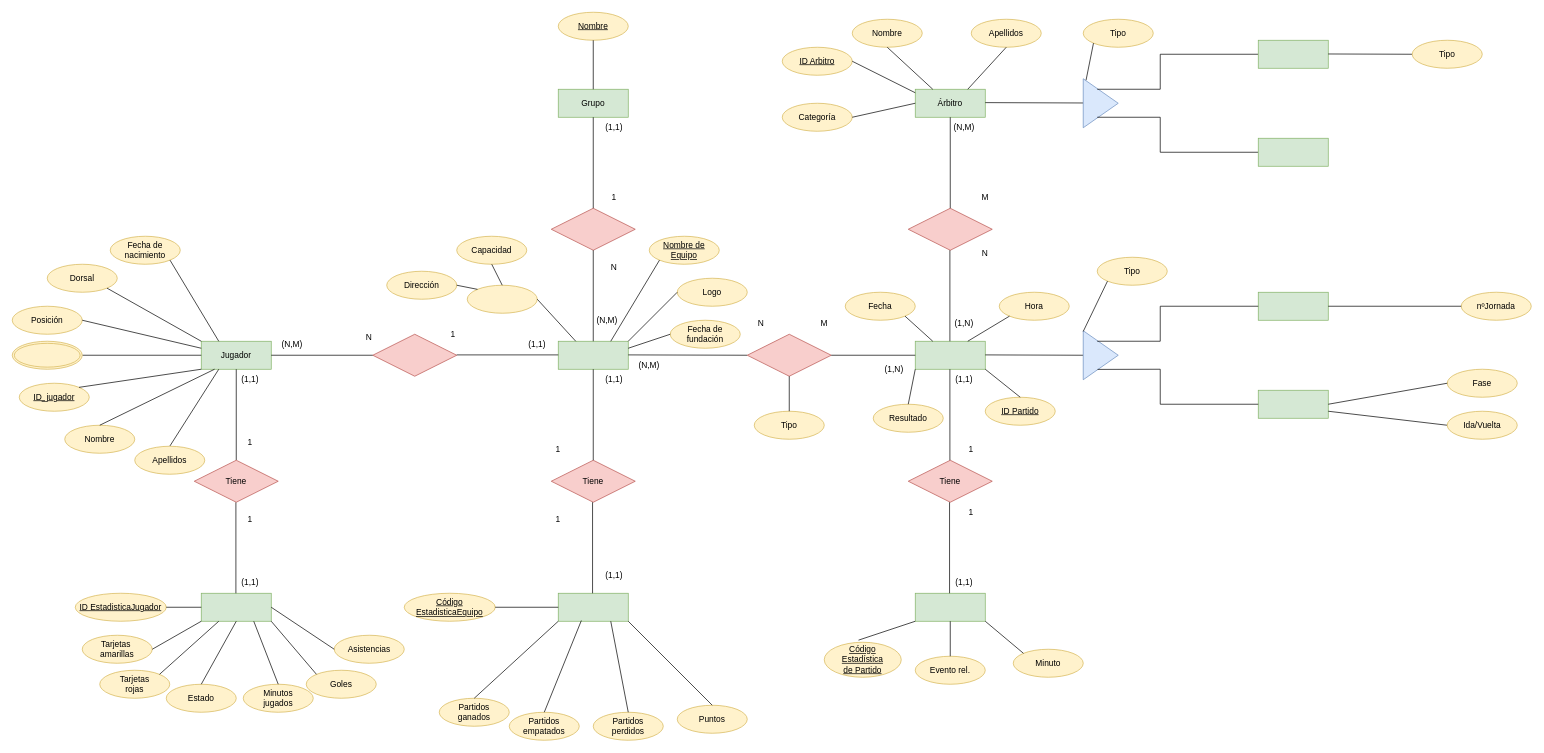
The diagram is 1544 pixels wide and 753 high, and some of its shapes have lost their labels. The shapes that lost their labels are listed below. From the top down, each one's box as (x1, y1, x2, y2) in pixels, then its label:
(1258, 40, 1328, 68): De Campo
(1258, 138, 1328, 166): De vídeo
(551, 208, 635, 250): Pertenece
(908, 208, 992, 250): Arbitra
(467, 285, 537, 313): Estadio
(1258, 292, 1328, 320): Regular
(12, 341, 82, 369): Nacionalidad
(372, 334, 457, 376): Compone
(558, 341, 628, 369): Equipo
(747, 334, 831, 376): Juega
(915, 341, 985, 369): Partido
(1258, 390, 1328, 418): Playoffs
(201, 593, 271, 621): Estadísticas de jugador
(558, 593, 628, 621): Estadística de equipo
(915, 593, 985, 621): Estadística de Partido
